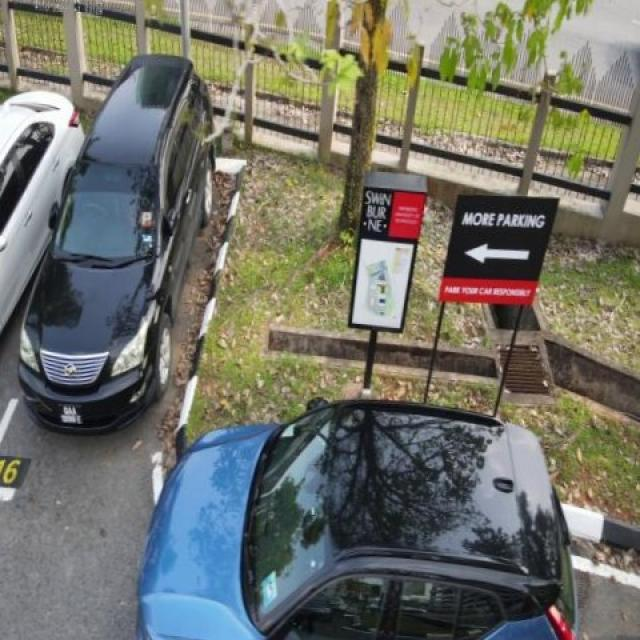Legalparking: (0, 0, 281, 442)
illegalparking: (97, 372, 640, 640)
